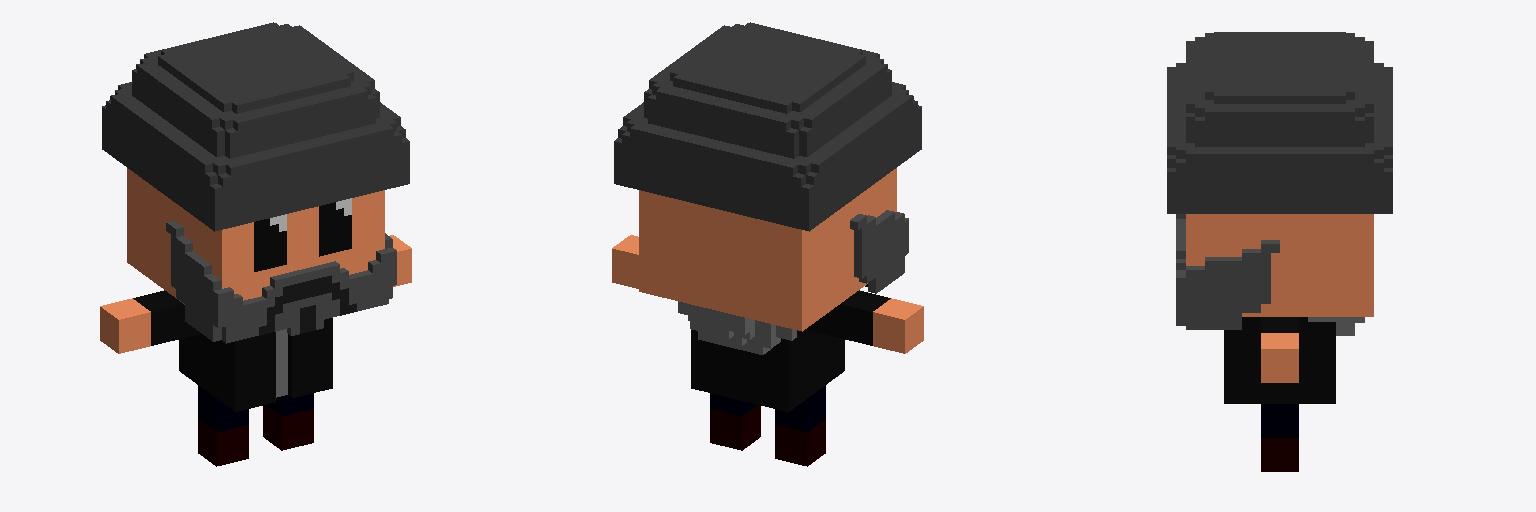
3 renders of one model, left to right at view 1: azimuth 30°, elevation 25°; view 2: azimuth 150°, elevation 25°; view 3: azimuth 270°, elevation 25°, orthographic.
Parts seen in each view (by area): view 1: Model; view 2: Model; view 3: Model.
Boxes of the visible parts, box(x1,y1,x2,y2) form: Model: box(100, 22, 411, 466); Model: box(612, 22, 923, 466); Model: box(1167, 32, 1392, 471).
Size of the model in its own units: 25.6 by 32 by 17.07.
1 materials, 1 textured.